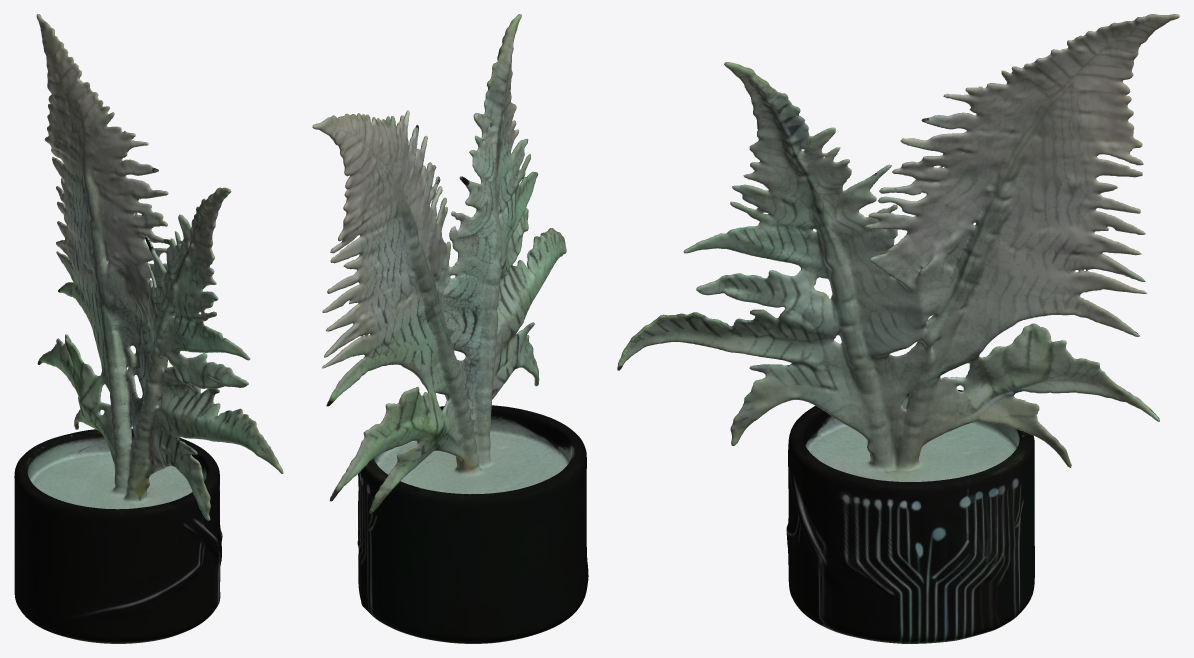
Rendered from tripo_convert_88a3e4ce-c2f1-4b60-bab1-65ef0ba163de.obj.
3 views of the same model, side by side, from view 1: azimuth 30°, elevation 25°; view 2: azimuth 150°, elevation 25°; view 3: azimuth 270°, elevation 25° (orthographic). The views are drawn at different scales.
Parts seen in each view (by area): view 1: tripo_node_88a3e4ce-c2f1-4b60-bab1-65ef0ba163de; view 2: tripo_node_88a3e4ce-c2f1-4b60-bab1-65ef0ba163de; view 3: tripo_node_88a3e4ce-c2f1-4b60-bab1-65ef0ba163de.
Boxes of the visible parts, x1,y1,x2,y2 form: tripo_node_88a3e4ce-c2f1-4b60-bab1-65ef0ba163de: (14, 14, 283, 643); tripo_node_88a3e4ce-c2f1-4b60-bab1-65ef0ba163de: (312, 14, 588, 643); tripo_node_88a3e4ce-c2f1-4b60-bab1-65ef0ba163de: (617, 14, 1179, 643).
Bounding box in the file's own units: 0.3481 × 0.9476 × 0.7935.
Materials: 1 (1 with a texture image).
